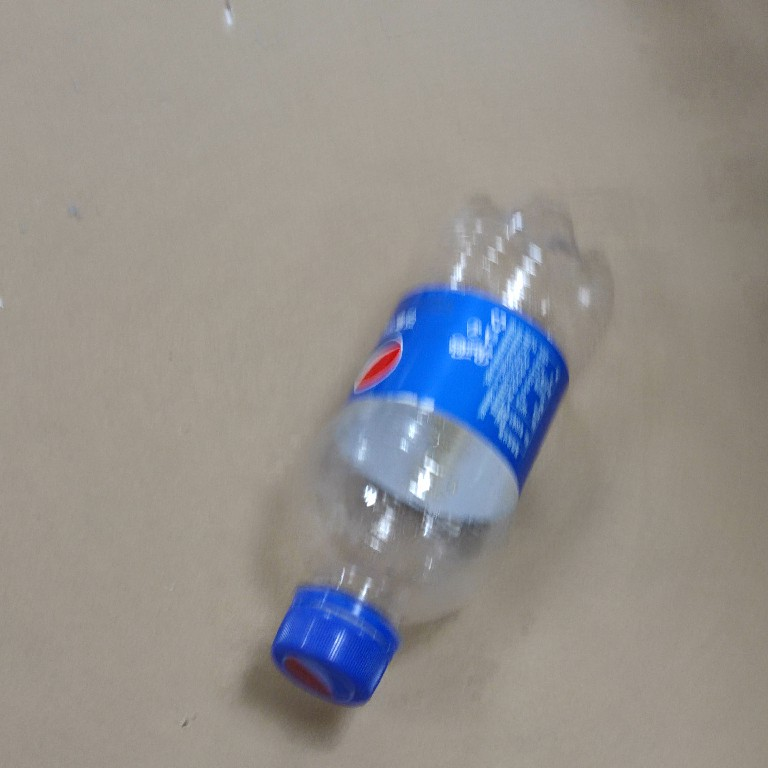bottle: (261, 183, 616, 719)
